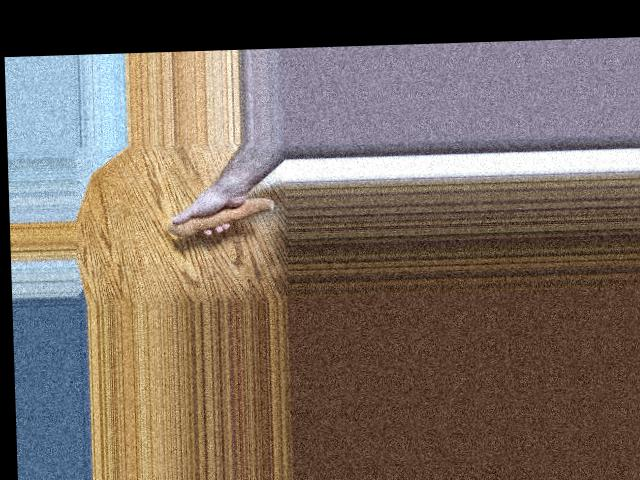sweet_potato: (168, 195, 276, 237)
